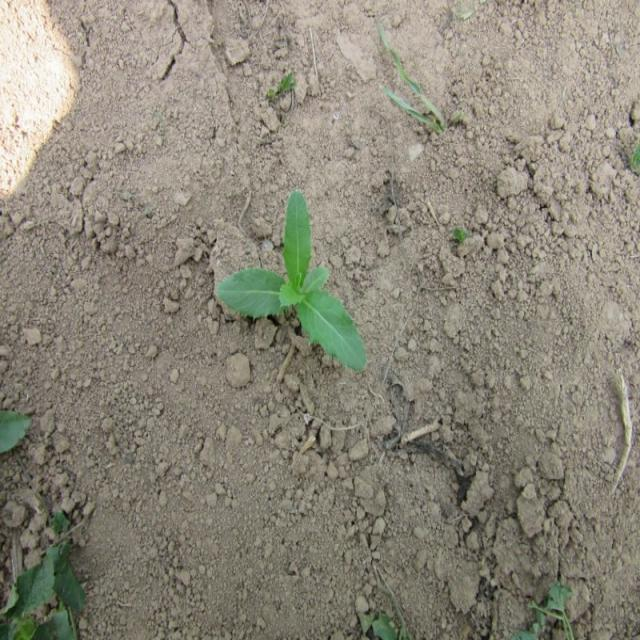cs: (214, 185, 369, 380)
